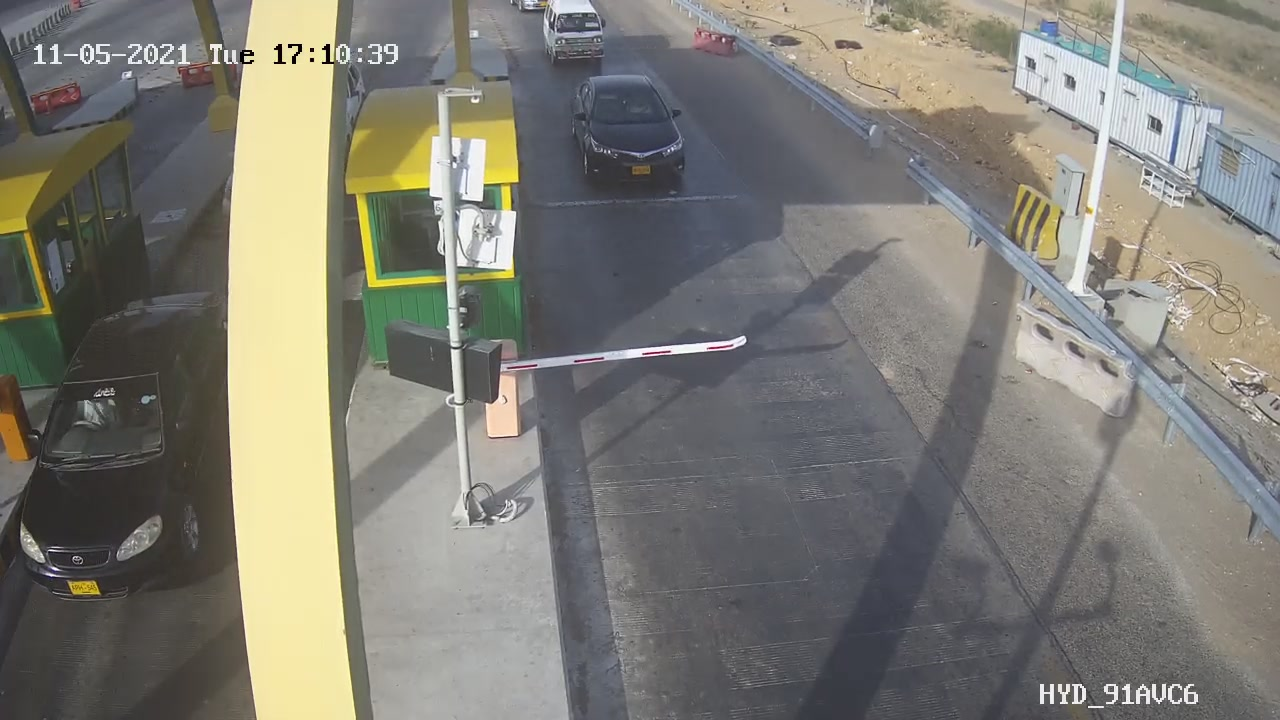F1: (555, 66, 703, 201)
